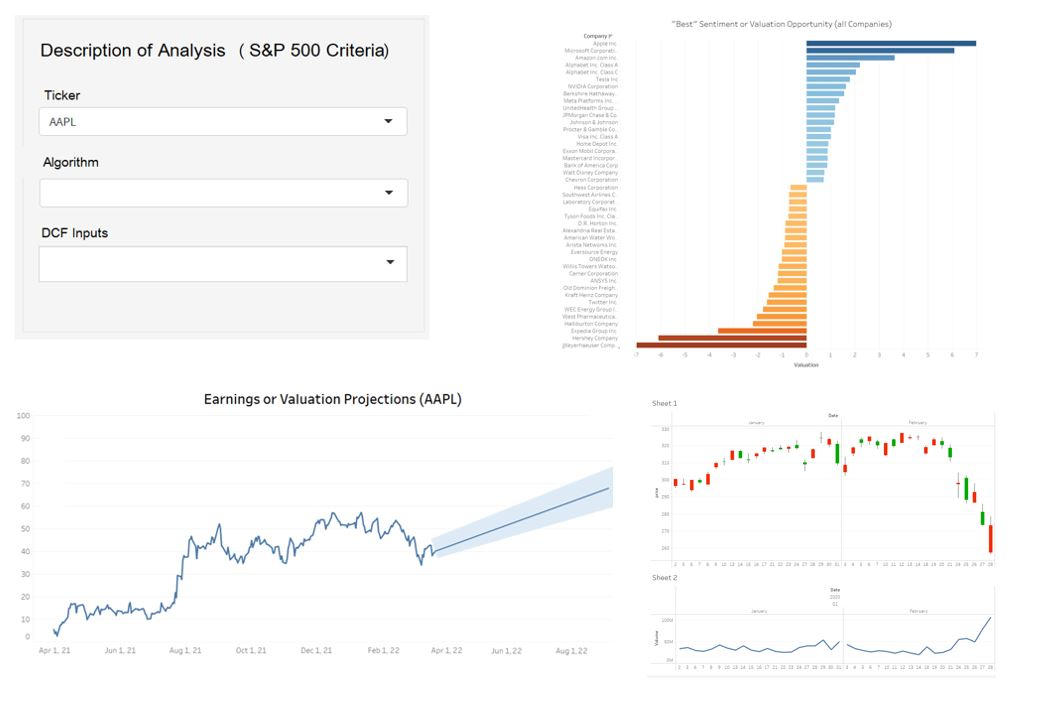

Layout of this report page (visuals, bound fields, positions):
{"tool":"tableau","page":{"name":"Dashboard 1","canvas":[1000,800],"ordinal":0},"visuals":[{"type":"worksheet","title":"Sheet 1","mark":"GanttBar","rows":["Open","High"],"cols":["Date","Date"],"box":[8,8,984,493]},{"type":"worksheet","title":"Sheet 2","mark":"Automatic","rows":["Volume"],"cols":["Date","Date","Date","Date"],"box":[8,501,984,291]}]}

Visuals, with their boxes on the page's 1000x800 design canvas (x1, y1, x2, y2). These are canvas units, not pixel positions in the 1045x705 screenshot, which may show the page scaled, cropped or inside an application window:
"Sheet 1" worksheet (GanttBar marks): bbox=(8, 8, 992, 501)
"Sheet 2" worksheet: bbox=(8, 501, 992, 792)
